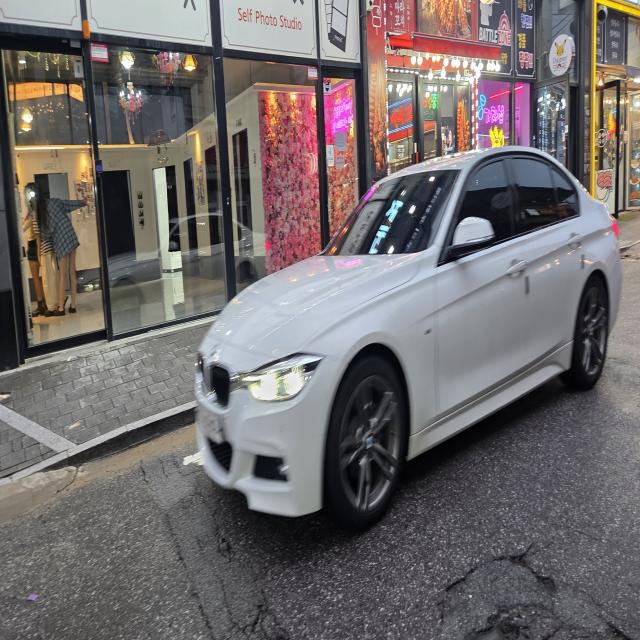car: (152, 137, 630, 546)
